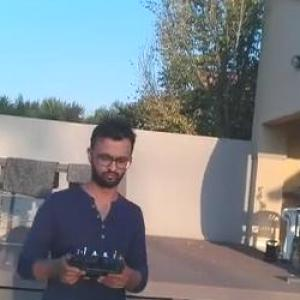follow: (10, 108, 154, 299)
